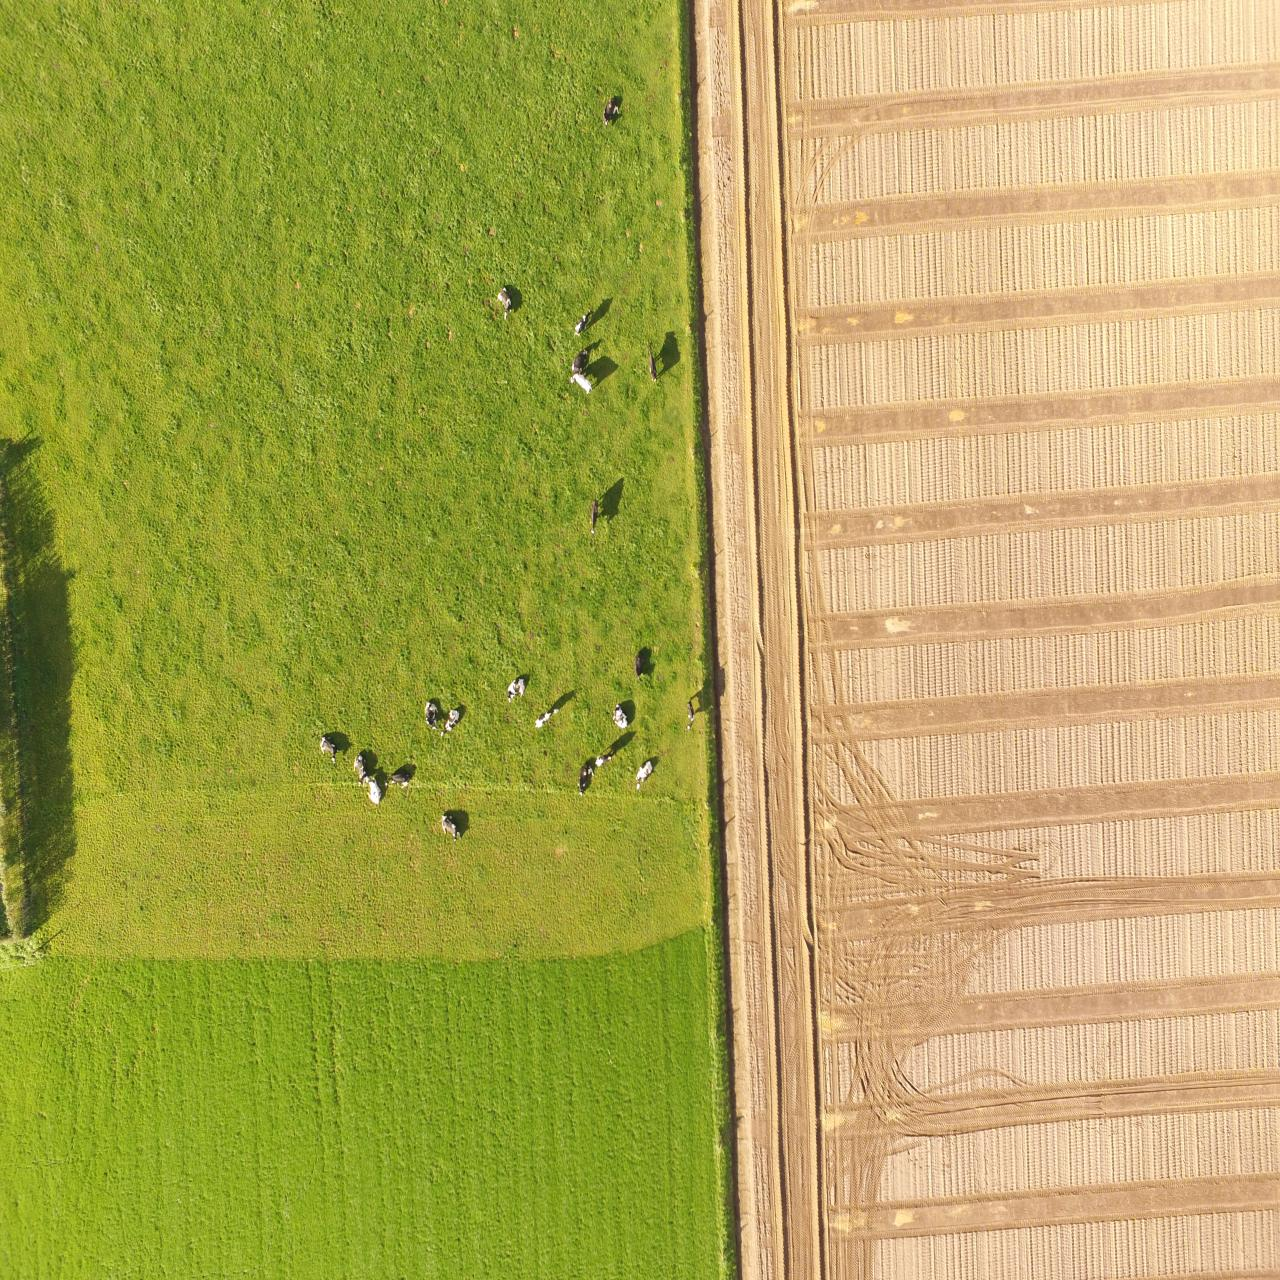cow: (633, 760, 652, 791), (441, 813, 461, 843), (496, 287, 512, 320), (578, 760, 593, 795), (365, 772, 382, 803), (535, 707, 558, 729), (572, 308, 592, 334), (441, 710, 459, 737), (568, 372, 594, 390), (319, 733, 335, 762), (568, 347, 587, 372), (506, 678, 526, 700), (384, 771, 411, 788), (424, 701, 438, 731), (646, 347, 658, 383), (612, 704, 628, 730), (352, 751, 366, 779), (594, 750, 618, 767), (602, 100, 618, 124), (685, 699, 694, 731), (633, 653, 644, 681), (590, 499, 598, 535)
